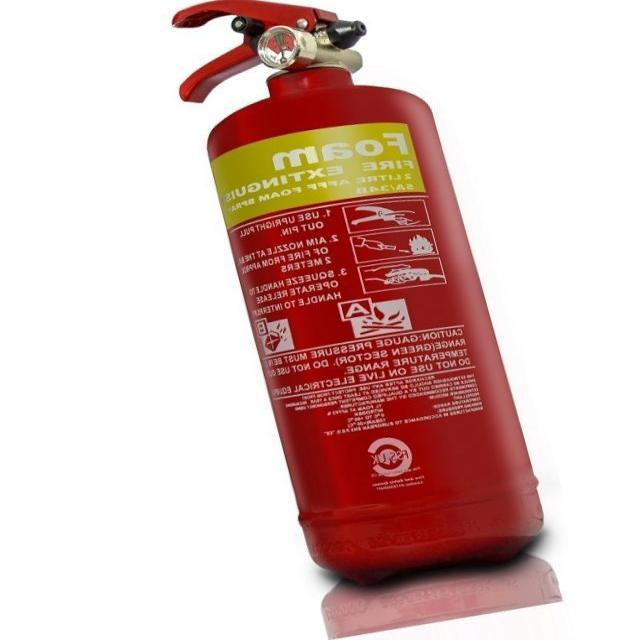fire_extinguisher: (155, 0, 551, 591)
